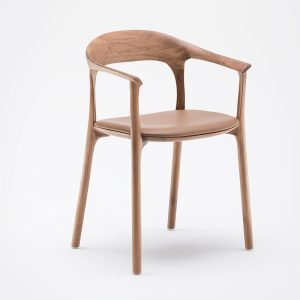chair: (63, 25, 269, 280)
